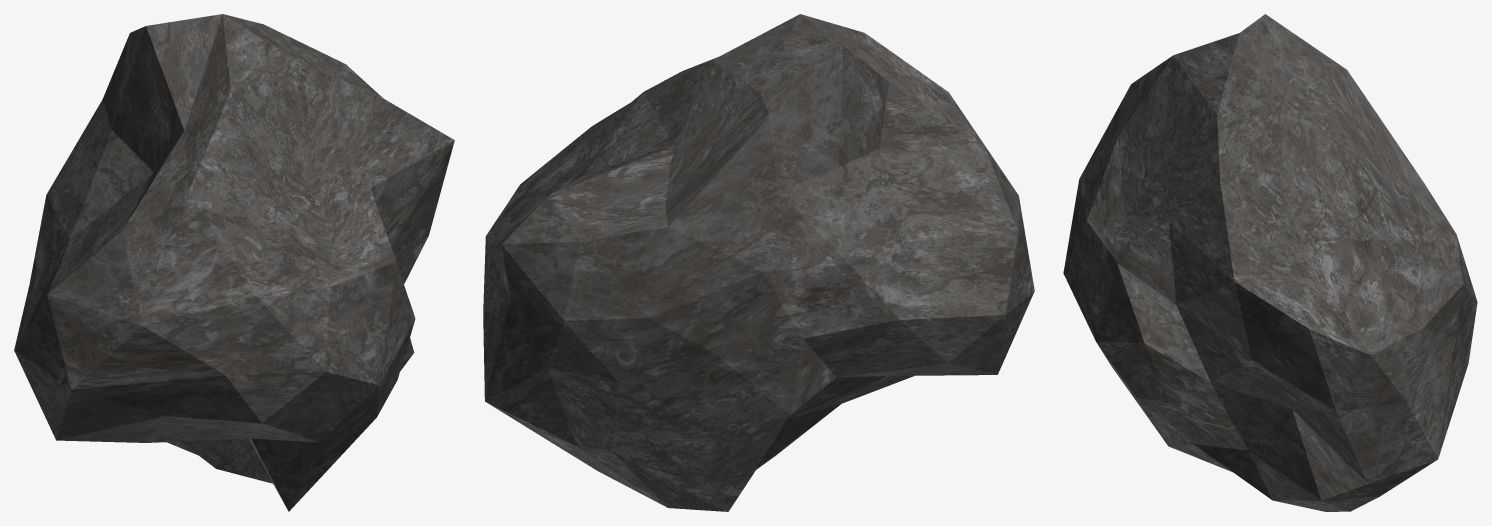
File: Asteroid_01_LOD1.FBX
3 views of the same model, side by side, from view 1: azimuth 30°, elevation 25°; view 2: azimuth 150°, elevation 25°; view 3: azimuth 270°, elevation 25° (orthographic). The views are drawn at different scales.
Parts seen in each view (by area): view 1: Asteriod_01_LOD1; view 2: Asteriod_01_LOD1; view 3: Asteriod_01_LOD1.
Part boxes in pixels (<box>): Asteriod_01_LOD1: <box>14,14,454,511</box>; Asteriod_01_LOD1: <box>483,14,1034,511</box>; Asteriod_01_LOD1: <box>1063,14,1477,511</box>.
Bounding box in the file's own units: 737 × 744 × 646.
1 material, 1 textured.
